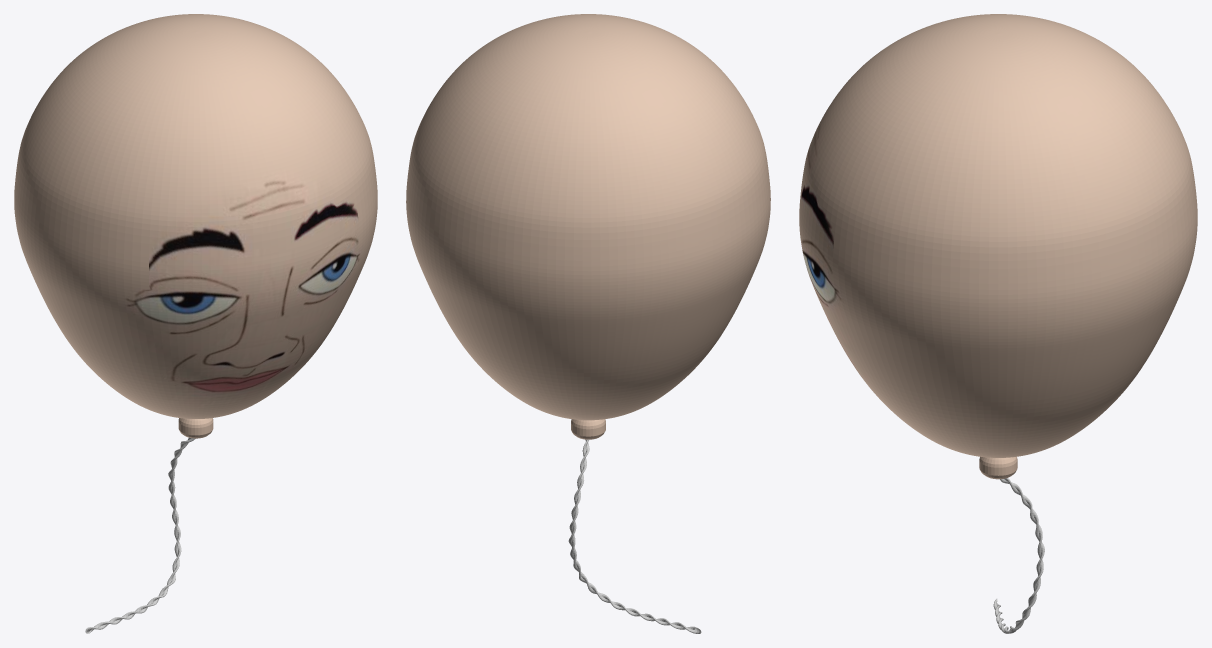
File: globito.obj
3 views of the same model, side by side, from view 1: azimuth 30°, elevation 25°; view 2: azimuth 150°, elevation 25°; view 3: azimuth 270°, elevation 25° (orthographic). The views are drawn at different scales.
Parts seen in each view (by area): view 1: Balloony_Sphere.003, Balloony_thread_Circle.001, Balloony_pito_Cylinder; view 2: Balloony_Sphere.003, Balloony_thread_Circle.001, Balloony_pito_Cylinder; view 3: Balloony_Sphere.003, Balloony_thread_Circle.001, Balloony_pito_Cylinder.
Boxes of the visible parts, x1,y1,x2,y2 form: Balloony_Sphere.003: [14, 14, 377, 418]; Balloony_thread_Circle.001: [85, 437, 195, 633]; Balloony_pito_Cylinder: [178, 418, 213, 438]; Balloony_Sphere.003: [406, 14, 770, 420]; Balloony_thread_Circle.001: [568, 439, 701, 633]; Balloony_pito_Cylinder: [571, 419, 605, 439]; Balloony_Sphere.003: [799, 14, 1197, 457]; Balloony_thread_Circle.001: [993, 478, 1044, 633]; Balloony_pito_Cylinder: [979, 456, 1017, 479].
Bounding box in the file's own units: 2.21 × 3.84 × 2.21.
